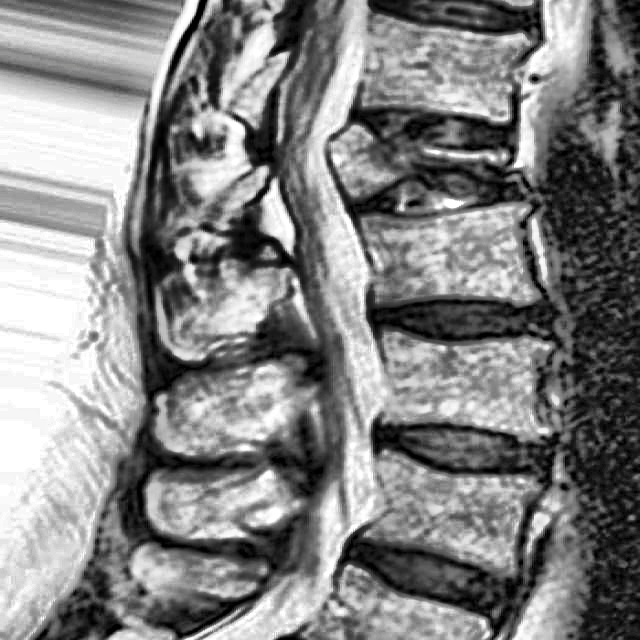Comminuted: (309, 86, 551, 227)
